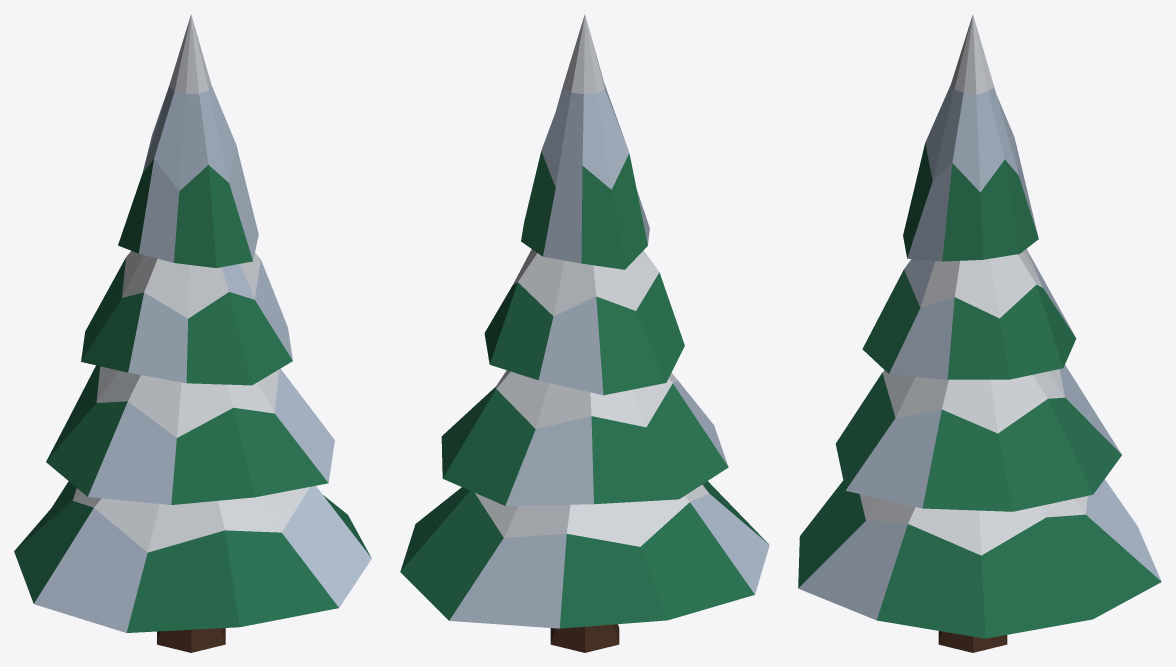
File: Pine_Heavy.glb
3 views of the same model, side by side, from view 1: azimuth 30°, elevation 25°; view 2: azimuth 150°, elevation 25°; view 3: azimuth 270°, elevation 25° (orthographic).
Parts seen in each view (by area): view 1: Pine_Heavy; view 2: Pine_Heavy; view 3: Pine_Heavy.
Part boxes in pixels (bbox=[...]): Pine_Heavy: bbox=[14, 14, 371, 652]; Pine_Heavy: bbox=[400, 14, 769, 652]; Pine_Heavy: bbox=[798, 14, 1161, 652].
Size of the model in its own units: 7.81 by 14.22 by 7.53.
